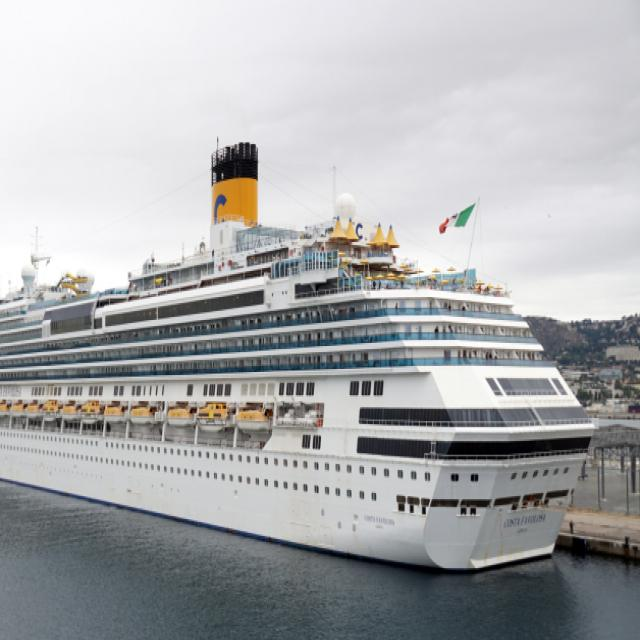cruises: (1, 139, 602, 592)
